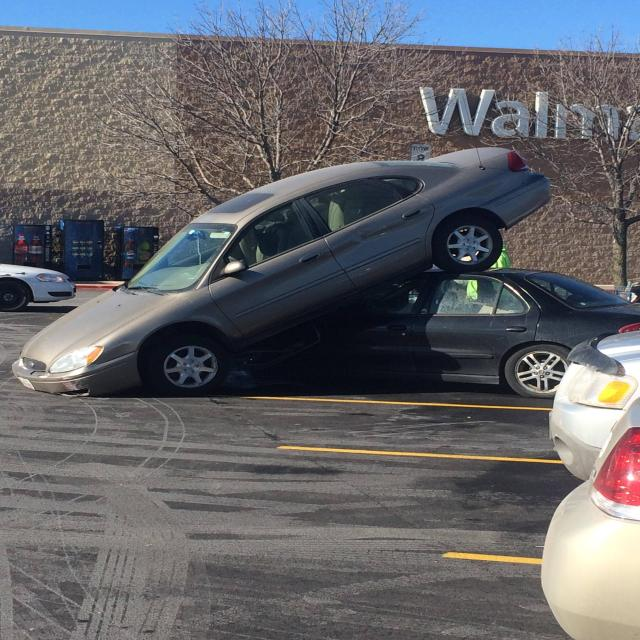scratch: (61, 376, 91, 391)
